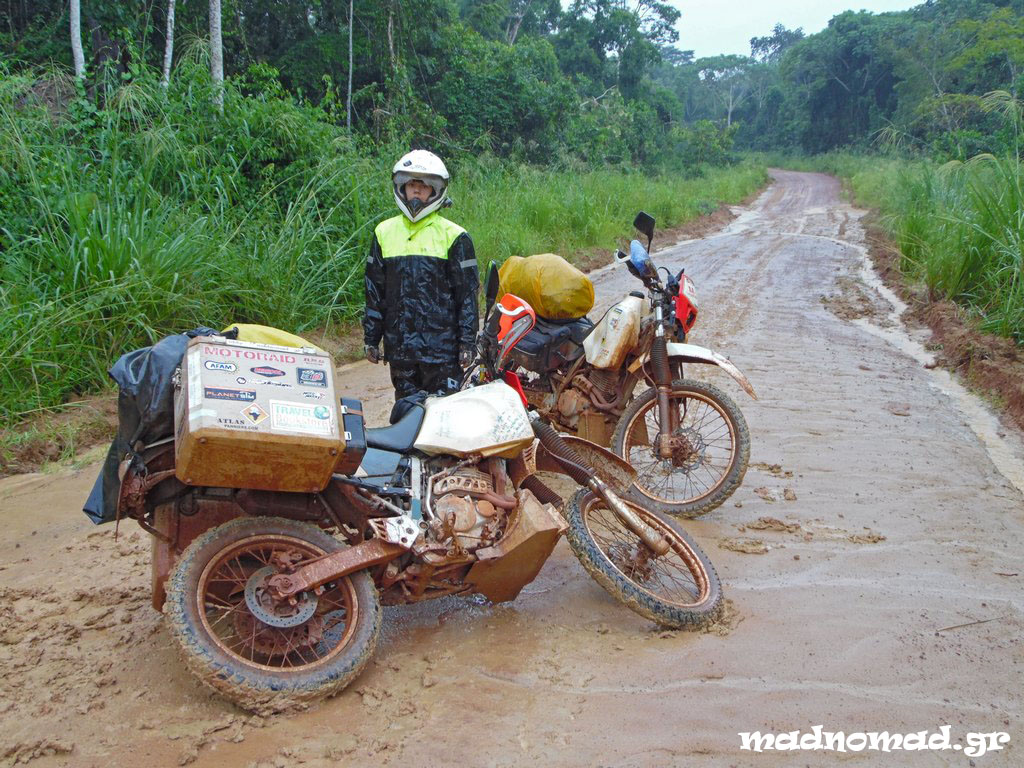motorbike: (114, 348, 724, 701), (482, 243, 773, 523)
